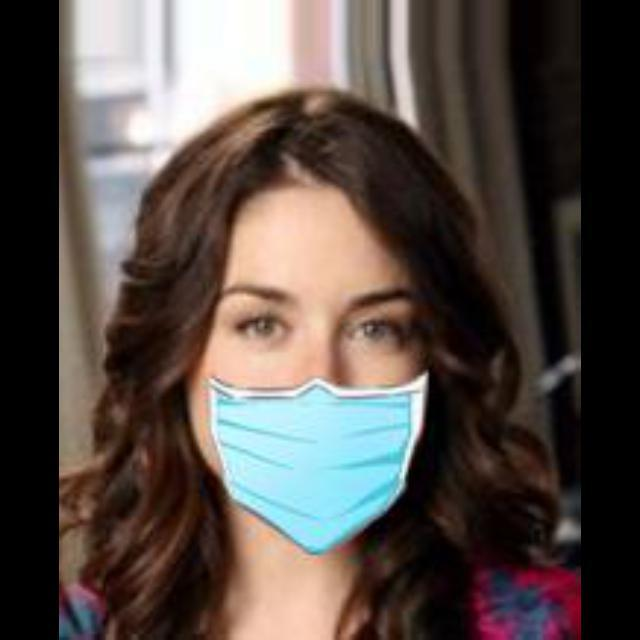suspicion: (190, 166, 424, 522)
